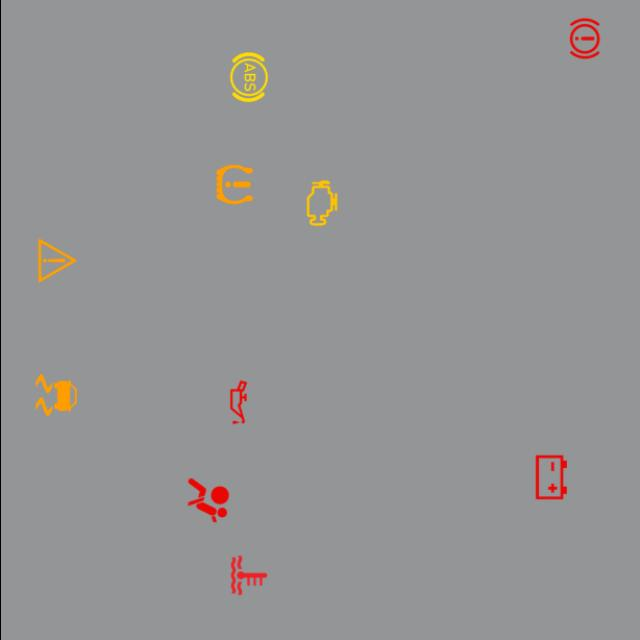Anti Lock Braking System: (221, 50, 275, 104)
Braking System Issue: (556, 12, 610, 66)
Charging System Issue: (524, 450, 578, 504)
Check Engine: (294, 177, 348, 230)
Electronic Stability Problem -ESP-: (28, 368, 82, 422)
Engine Overheating Warning Light: (221, 548, 275, 602)
Low Engine Oil Warning Light: (210, 376, 264, 430)
Low Tire Pressure Warning Light: (207, 158, 260, 212)
Master warning light: (30, 234, 84, 288)
SRS-Airbag: (180, 473, 234, 528)
